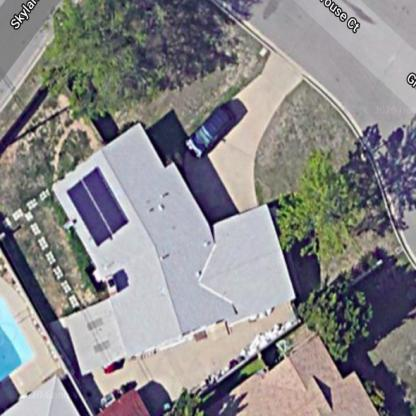car: (183, 95, 250, 165)
solar_panel: (64, 163, 134, 252)
swimming_pool: (2, 283, 46, 392)
